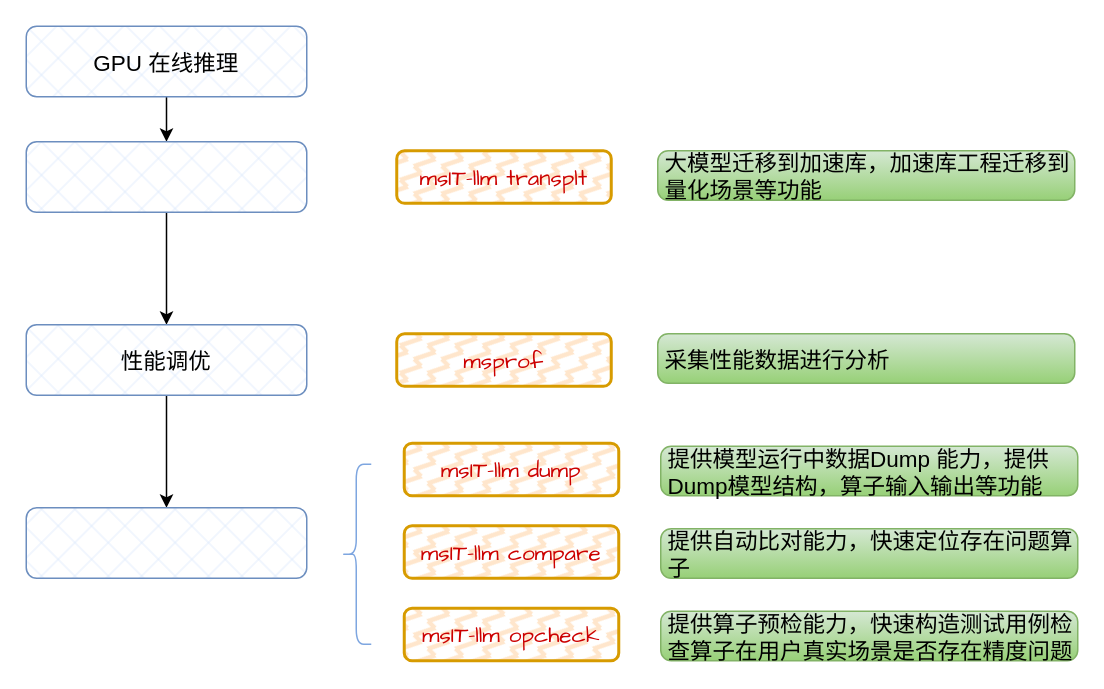
Some shapes in this 1104 by 689 pixel diagram are drawn without their labels. The centre of each missing label's shape, as x and y in pixels:
"应用迁移（ATB/TorchAir）" goes at pixel 166 176.
"精度定位" goes at pixel 166 542.
